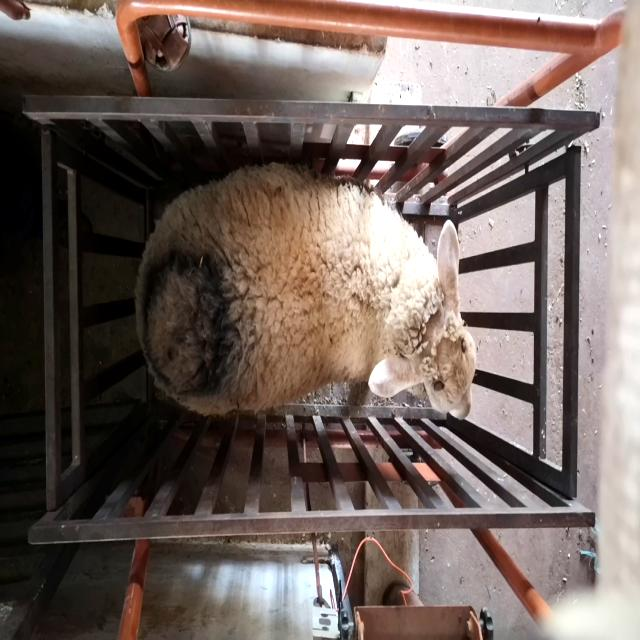sheep: (134, 162, 477, 421)
